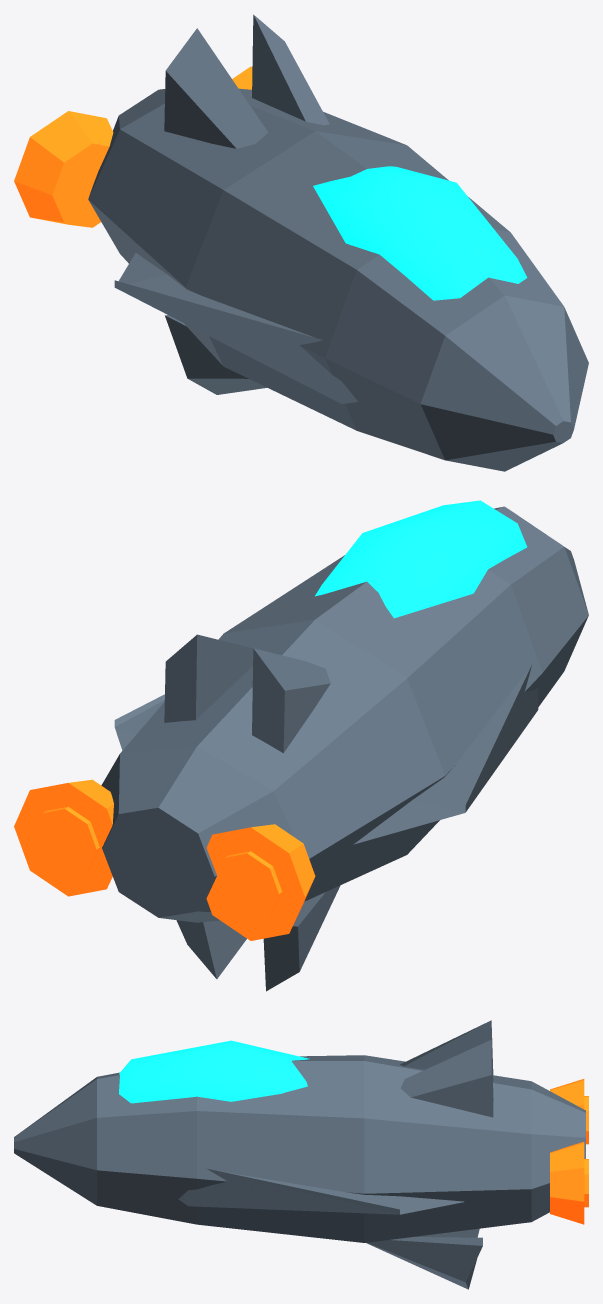
File: medium_fighter_v001.glb
3 views of the same model, one above another, from view 1: azimuth 30°, elevation 25°; view 2: azimuth 150°, elevation 25°; view 3: azimuth 270°, elevation 25° (orthographic). The views are drawn at different scales.
Parts seen in each view (by area): view 1: fighter_body, fighter_glass, fighter_engine; view 2: fighter_body, fighter_engine, fighter_glass; view 3: fighter_body, fighter_glass, fighter_engine.
Part boxes in pixels (bbox=[...]): fighter_body: bbox=[88, 14, 588, 471]; fighter_glass: bbox=[313, 166, 527, 300]; fighter_engine: bbox=[14, 66, 252, 227]; fighter_body: bbox=[101, 506, 588, 991]; fighter_engine: bbox=[14, 779, 315, 940]; fighter_glass: bbox=[315, 500, 527, 618]; fighter_body: bbox=[14, 1020, 585, 1289]; fighter_glass: bbox=[119, 1040, 309, 1103]; fighter_engine: bbox=[550, 1079, 588, 1224].
Bounding box in the file's own units: 2 × 1.94 × 4.02.
